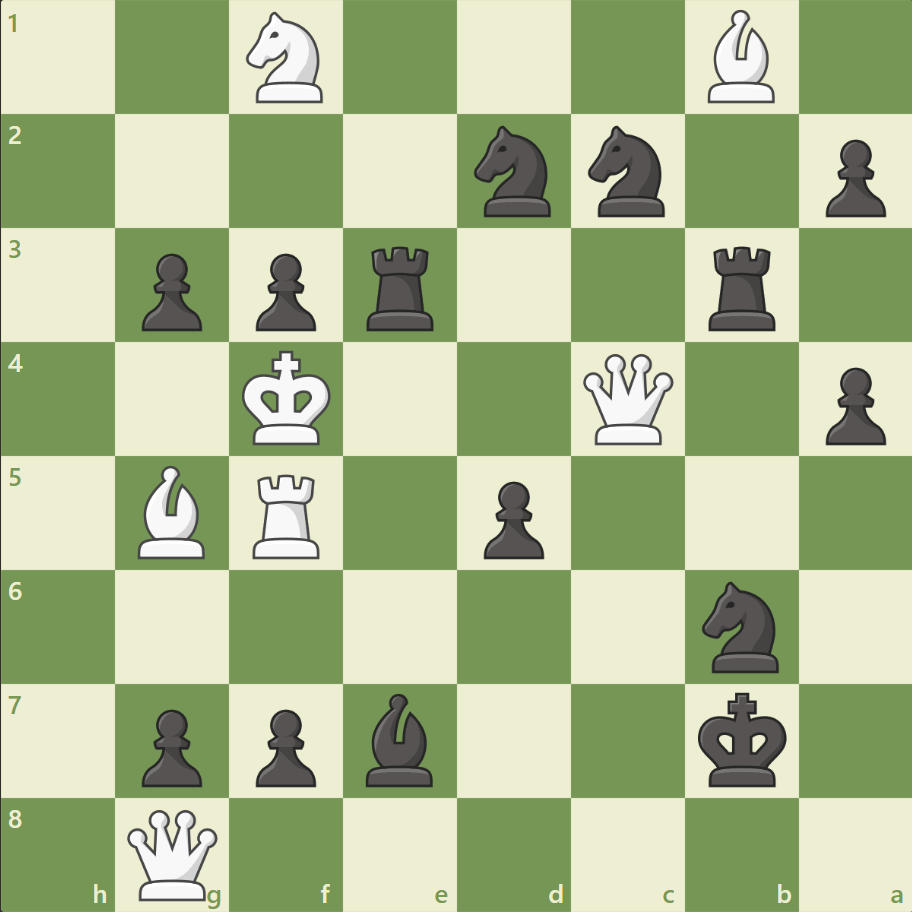B: (131, 460, 215, 563), (698, 6, 782, 109)
K: (238, 344, 338, 452)
N: (238, 7, 335, 110)
Q: (578, 349, 677, 449), (124, 804, 223, 903)
R: (246, 466, 329, 563)
b: (358, 687, 442, 790)
k: (692, 685, 792, 793)
n: (692, 575, 789, 677), (579, 121, 676, 223), (465, 121, 562, 223)
p: (247, 700, 322, 791), (133, 700, 208, 791), (474, 473, 549, 564), (247, 246, 322, 337), (133, 246, 208, 337), (815, 359, 889, 450), (815, 132, 889, 223)
r: (700, 239, 783, 336), (360, 239, 442, 336)
